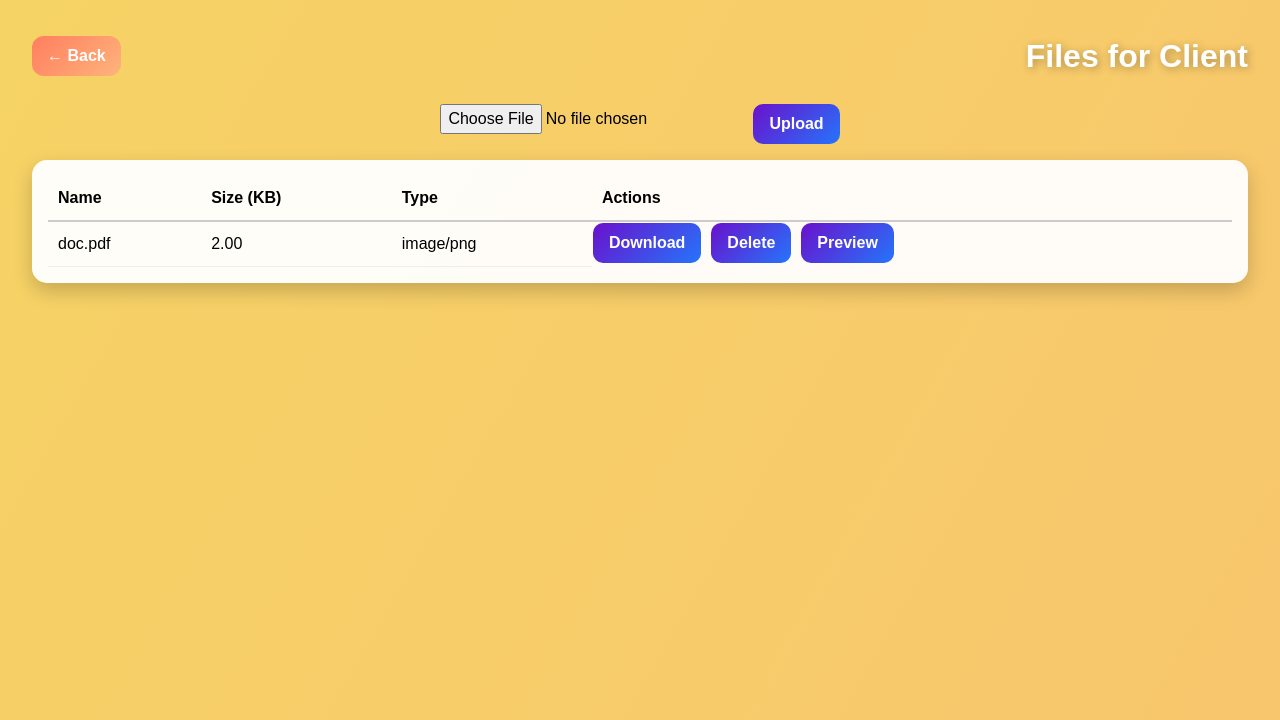
Scenario: ClientFiles - fetchFiles, handleUpload › opens preview overlay with Close after successful preview fetch
The image size is (1280, 720).
Expected: the text "doc.pdf" is shown, top-left (48, 221), bottom-right (201, 266)
What coordinates should you click on to do the following:
click the button "Preview"
I would click on:
 (848, 243)
Its box is top-left (801, 223), bottom-right (894, 263).
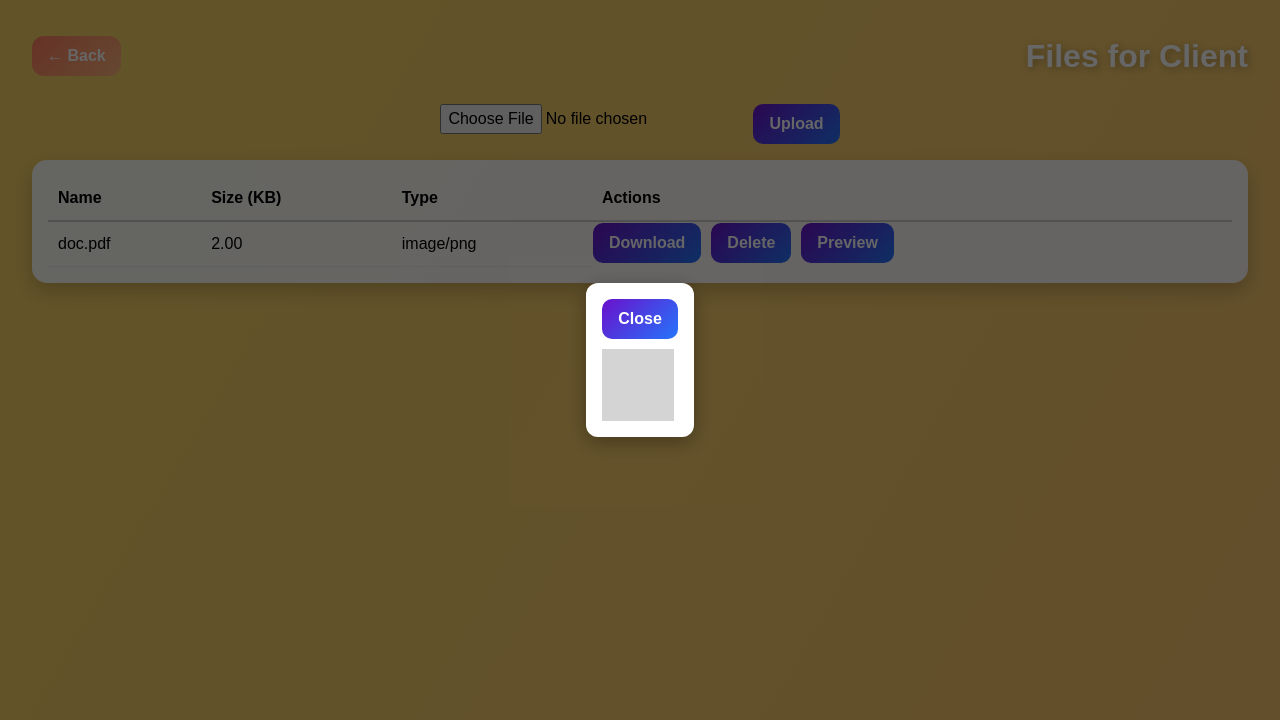
Now the button "Close" is shown, box top-left (602, 299), bottom-right (678, 339)
